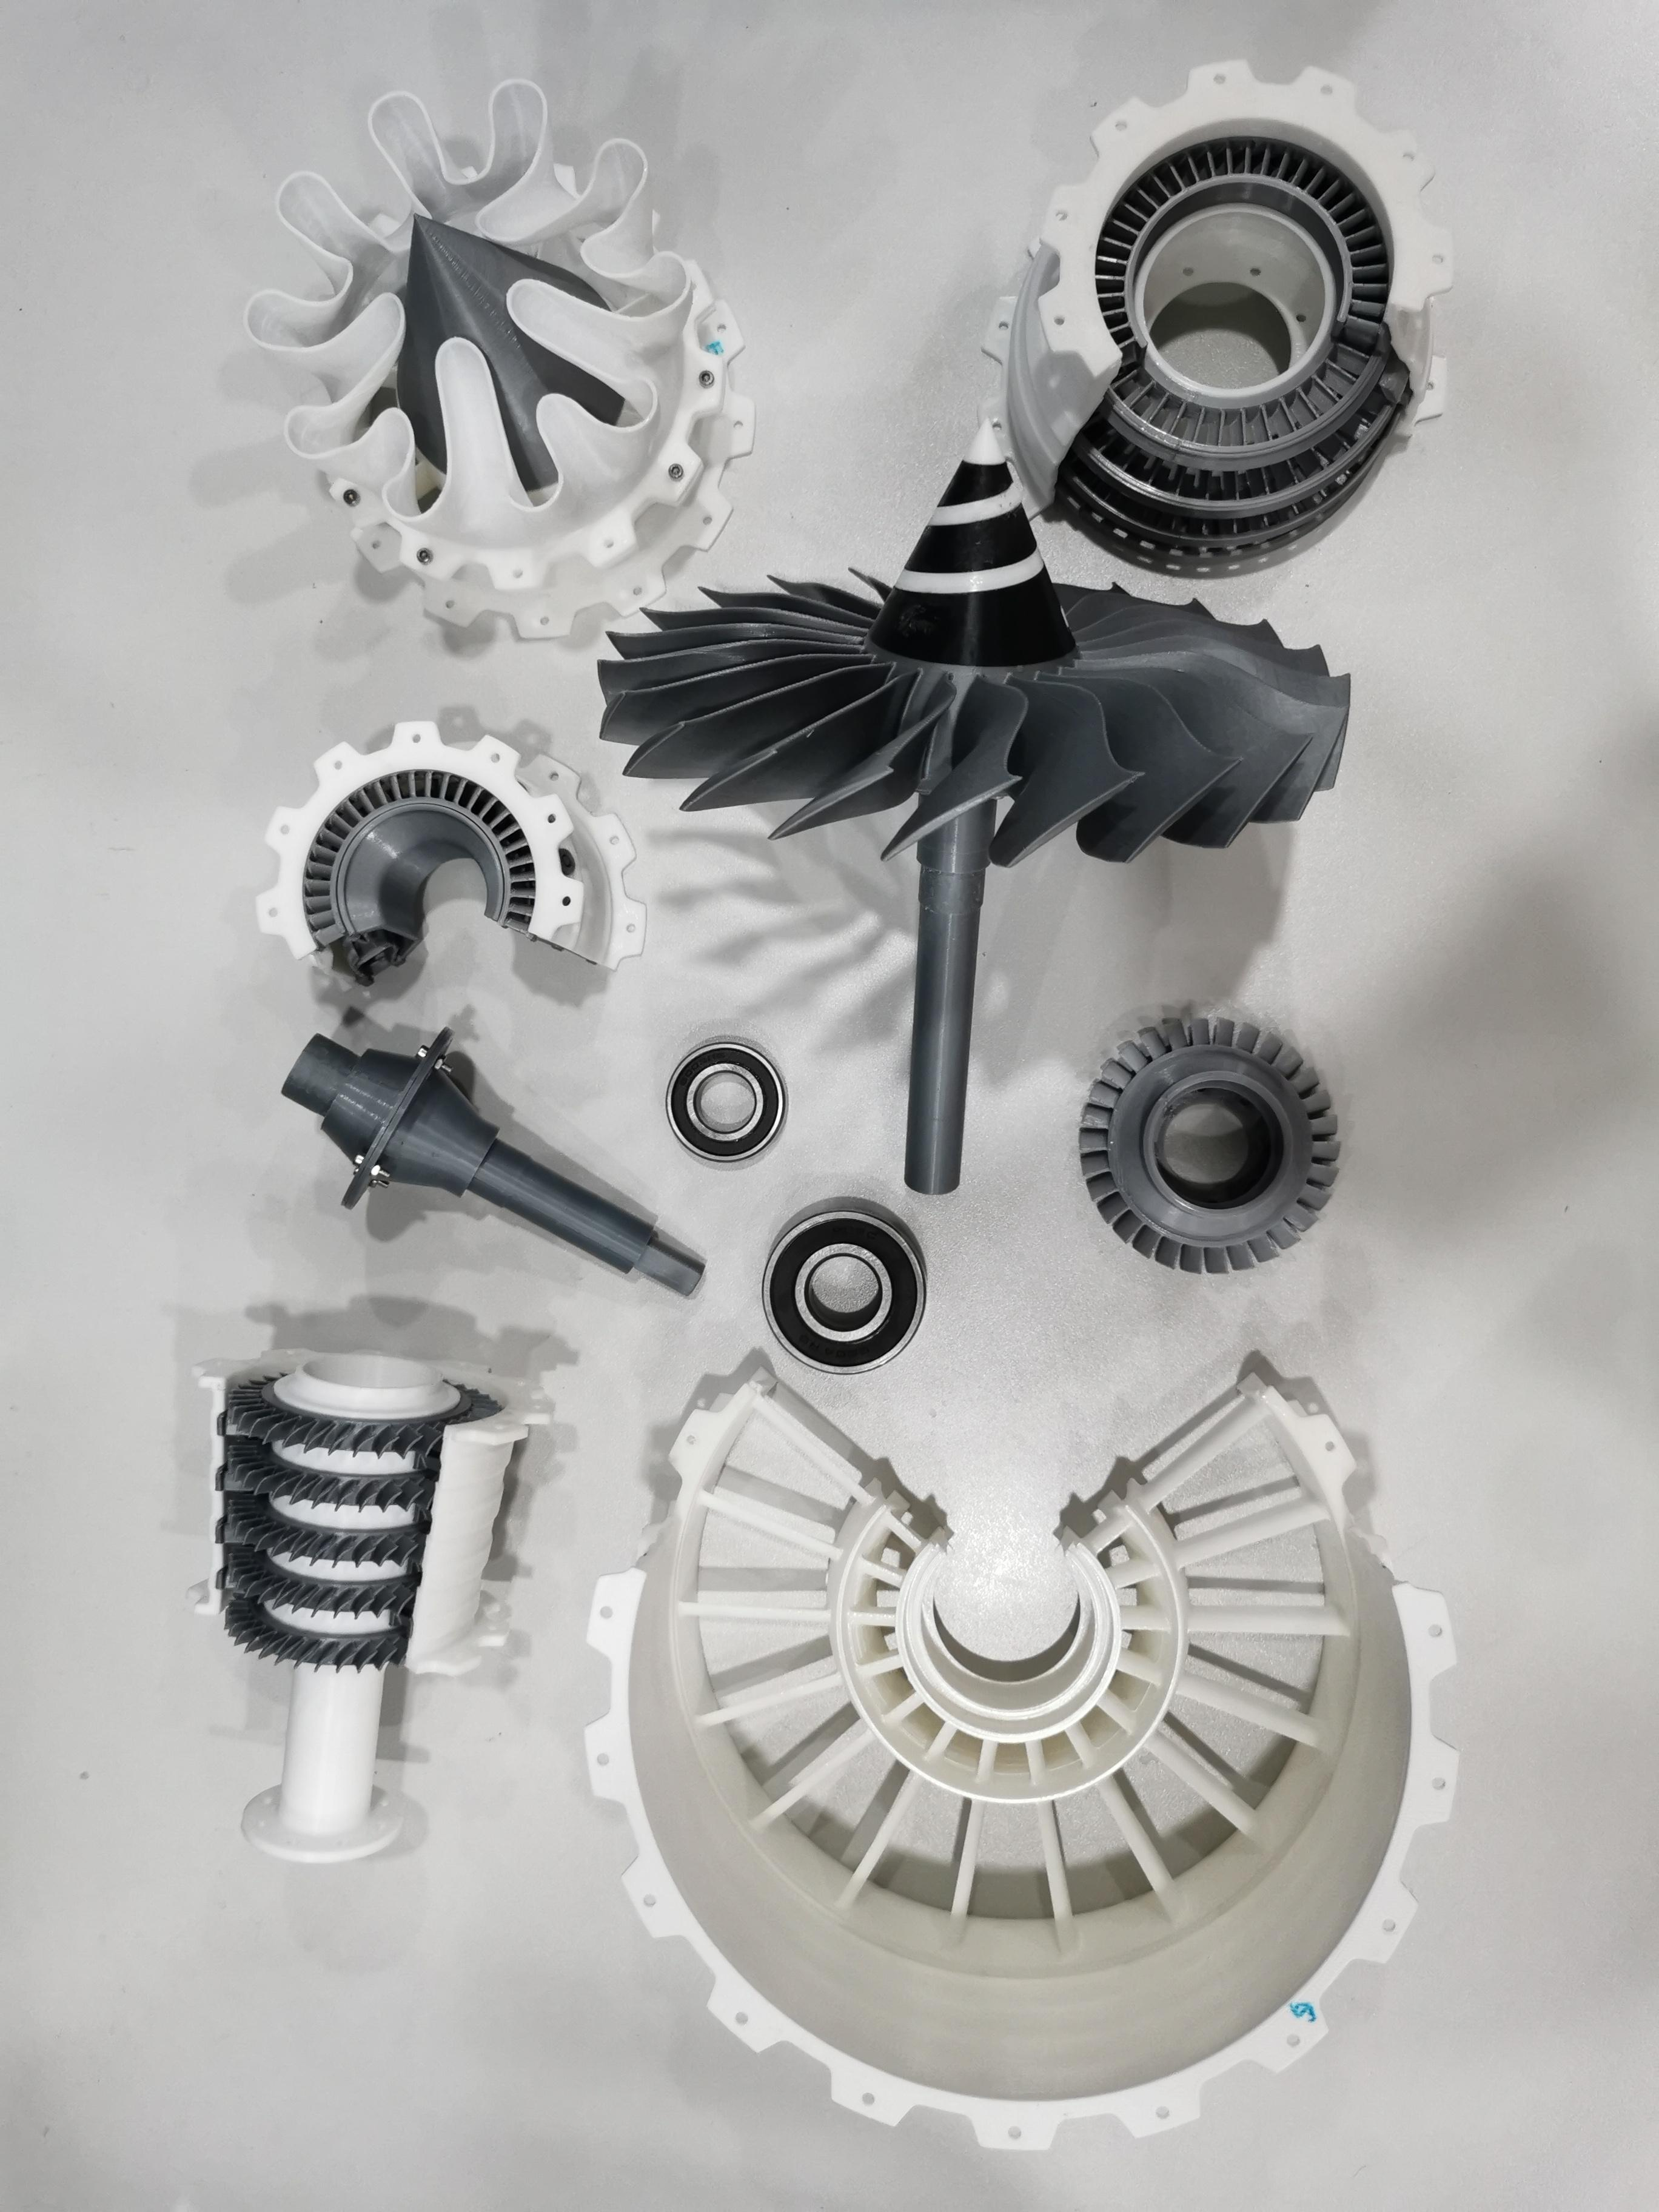Bearing-6003: (641, 1026, 789, 1174)
Bearing-6204: (721, 1181, 951, 1388)
Combustion Section: (237, 709, 648, 1000)
Fan Casing and Support: (577, 1341, 1478, 2163)
Fan and Low Pressure Shaft: (591, 415, 1371, 1191)
HPT Section: (1070, 1001, 1363, 1284)
High Pressure Spool: (169, 1320, 566, 1897)
LPT Section: (958, 45, 1474, 587)
Low Pressure Spool: (240, 1012, 708, 1308)
Nozzle Section: (232, 68, 760, 648)
